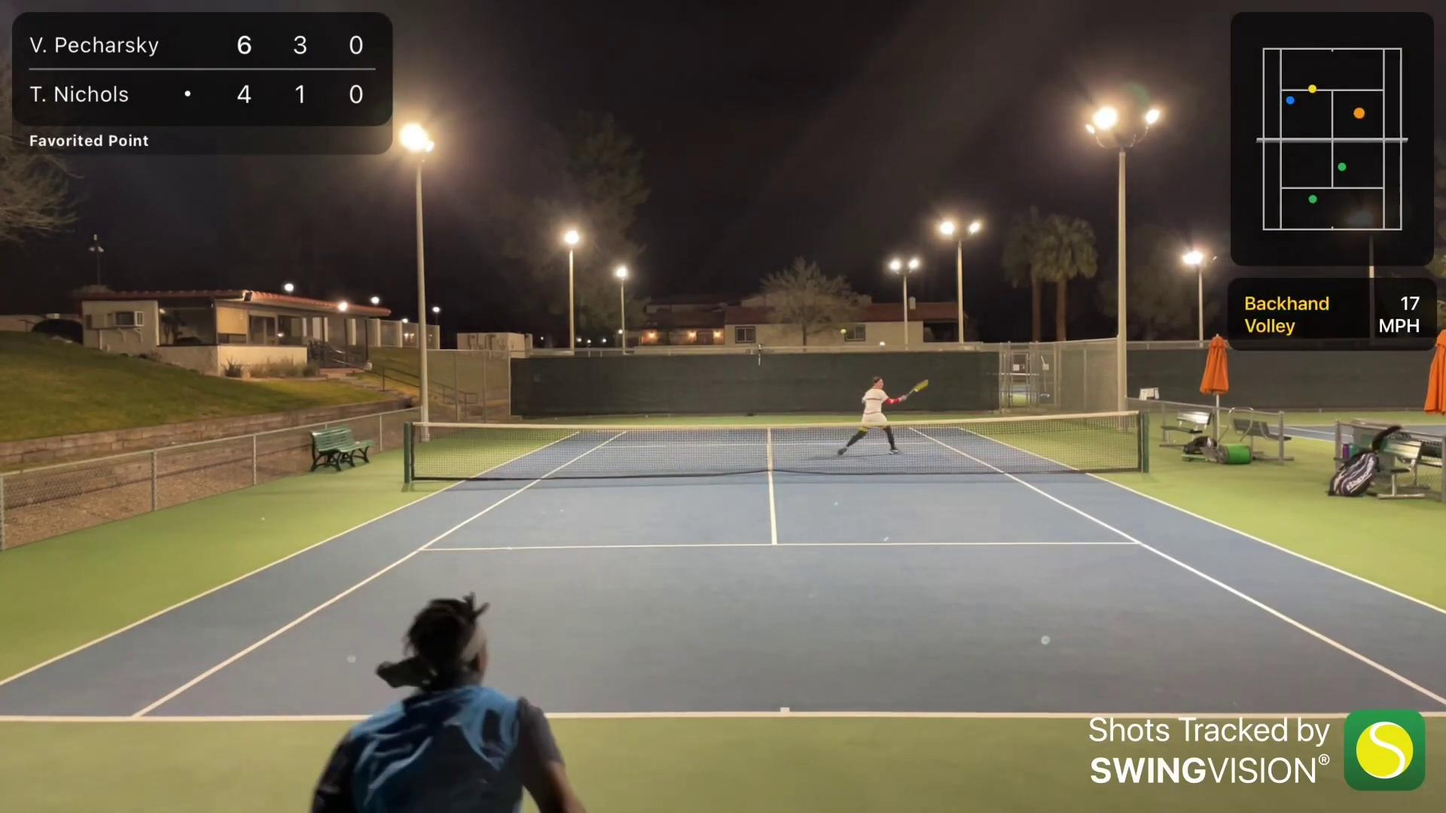ball: (839, 327, 846, 334)
